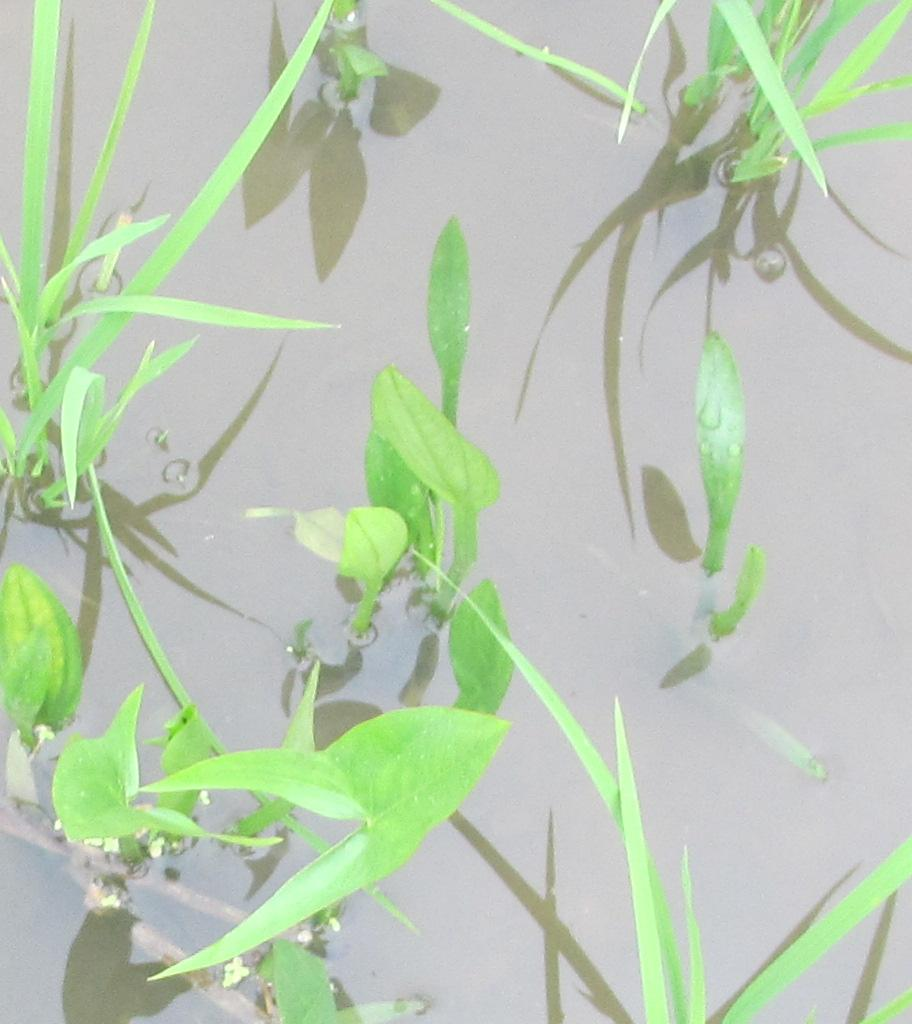Weed: (336, 222, 517, 697), (53, 708, 519, 888), (678, 325, 764, 642)
